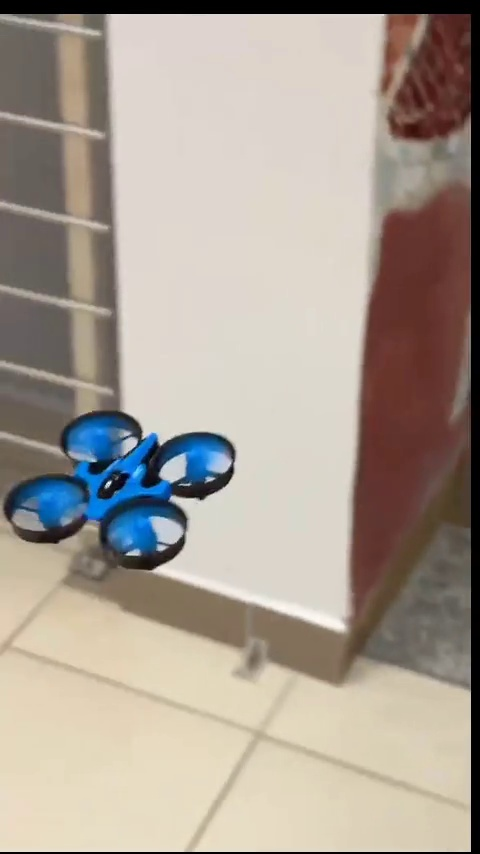drone: (14, 410, 232, 565)
